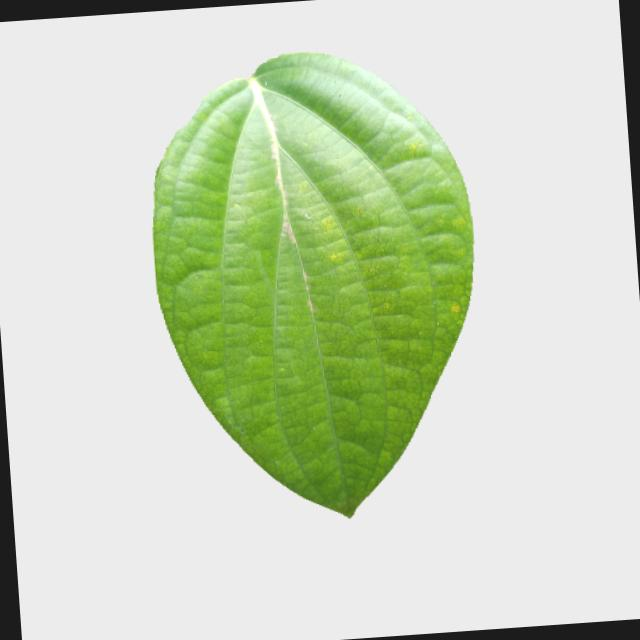healthy: (138, 37, 496, 534)
